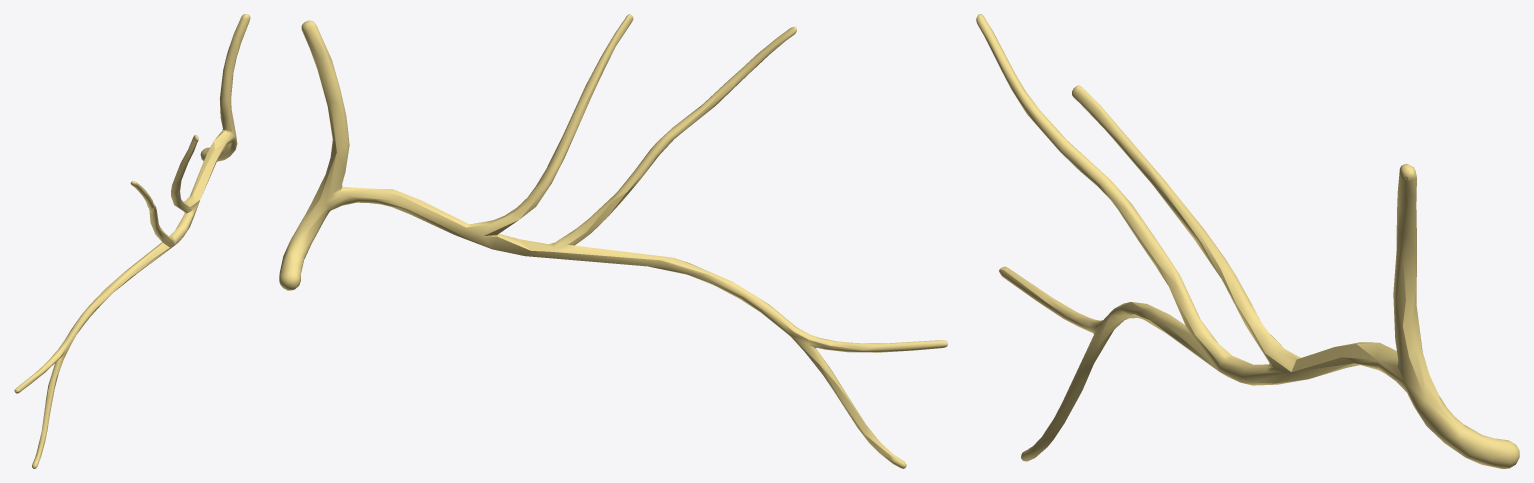
The model's file is fma53252_fj3956.glb.
3 renders of one model, left to right at view 1: azimuth 30°, elevation 25°; view 2: azimuth 150°, elevation 25°; view 3: azimuth 270°, elevation 25°, orthographic. The views are drawn at different scales.
Visible parts, largest first — view 1: FMA53252_FJ3956; view 2: FMA53252_FJ3956; view 3: FMA53252_FJ3956.
Part boxes in pixels (left/top/right/bottom): FMA53252_FJ3956: left=14, top=14, right=250, bottom=468; FMA53252_FJ3956: left=279, top=14, right=947, bottom=468; FMA53252_FJ3956: left=976, top=14, right=1519, bottom=468.
Bounding box in the file's own units: 0.02 × 0.0171 × 0.0144.
